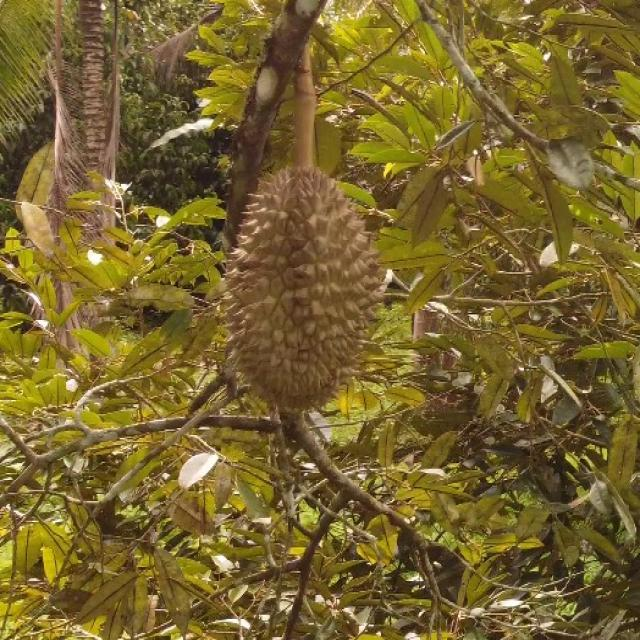mature: (222, 167, 380, 412)
